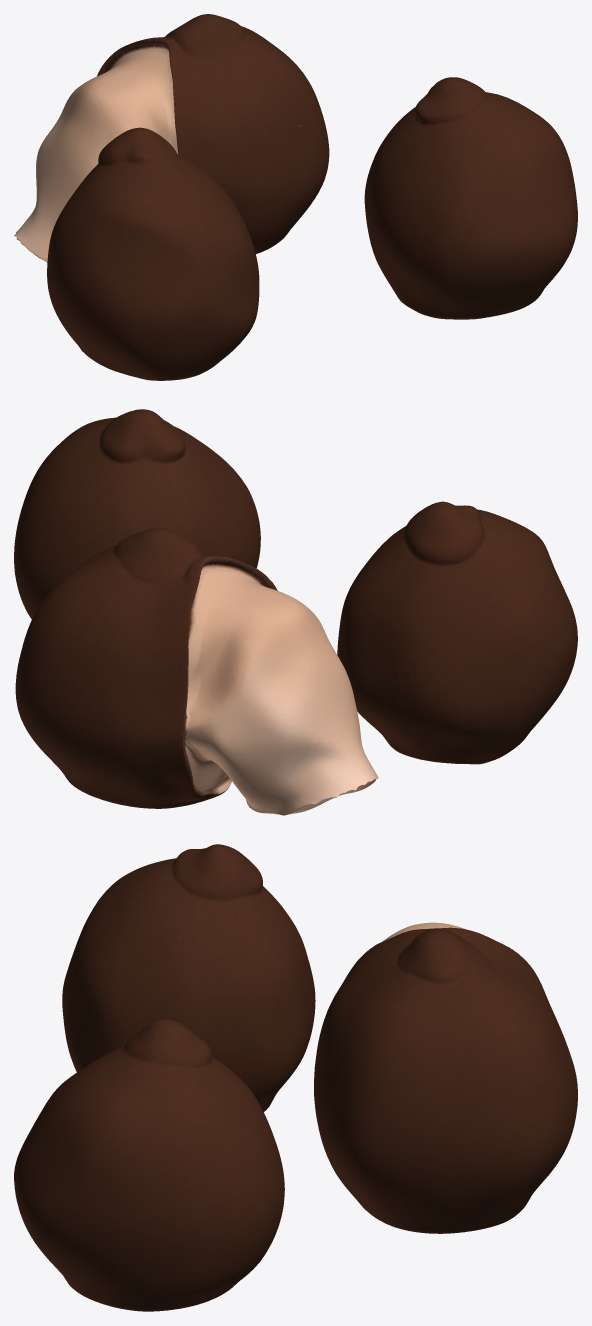
The model's file is parati-caja-bombones-sin.glb.
The picture shows the model from 3 angles, top to bottom: view 1: azimuth 30°, elevation 25°; view 2: azimuth 150°, elevation 25°; view 3: azimuth 270°, elevation 25°; orthographic projection. The views are drawn at different scales.
Size of the model in its own units: 1.88 by 0.855 by 1.6.
1 material, 1 textured.
